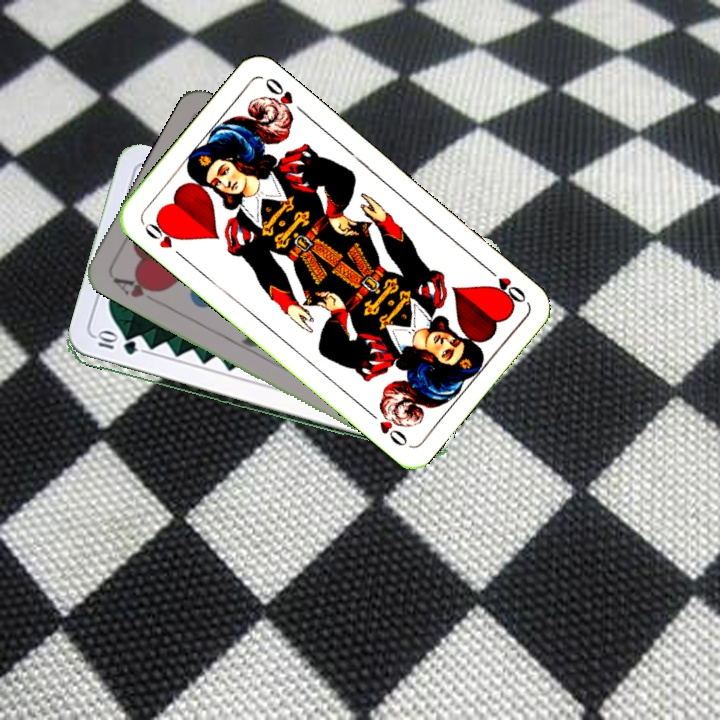G10: (92, 332, 141, 358)
HA: (108, 272, 166, 307)
HO: (138, 215, 188, 262), (481, 262, 529, 307)
